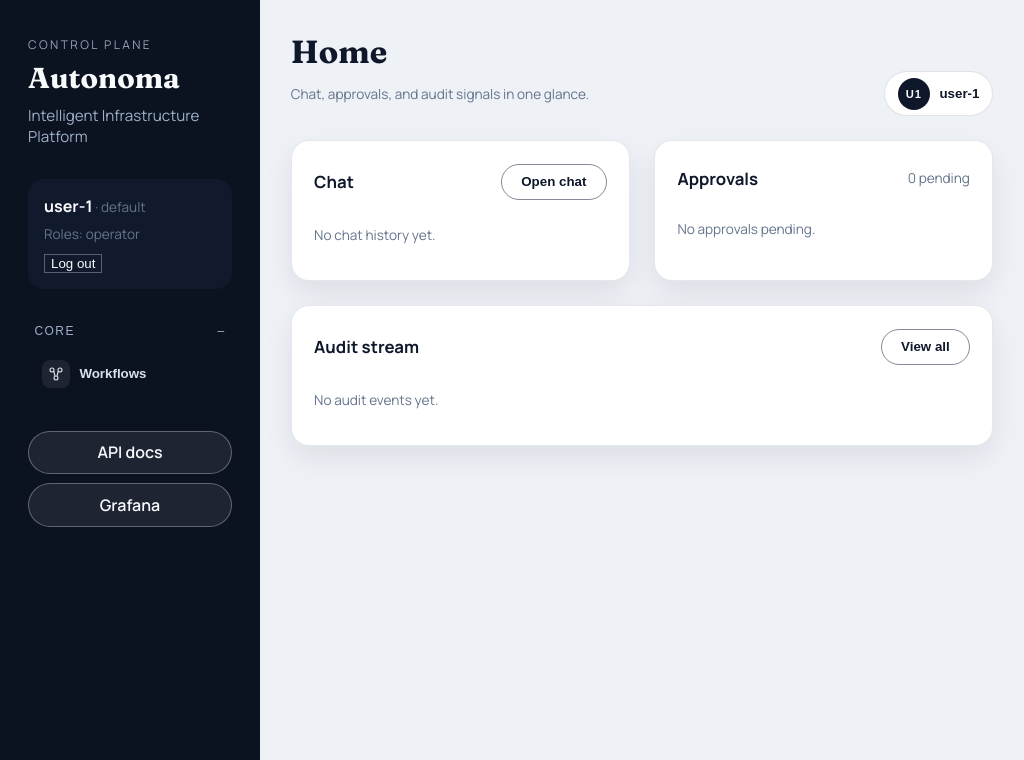
Test case: App auth flow › renders v1 runtime timeline cards in run details modal
The width and height of the screenshot is (1024, 760).
Click the button "Workflows" at (130, 374), box [28,349,232,399]
(page scrolled)
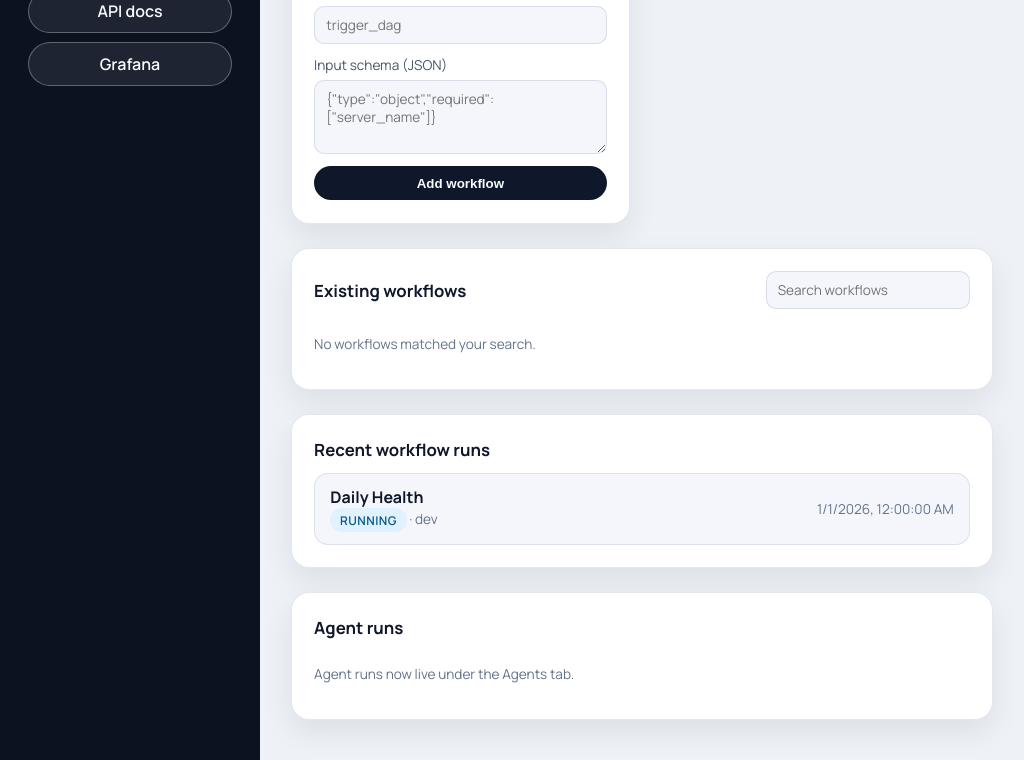
Click the button with aria-label "View details for Daily Health" at (377, 497), box [314,473,970,545]
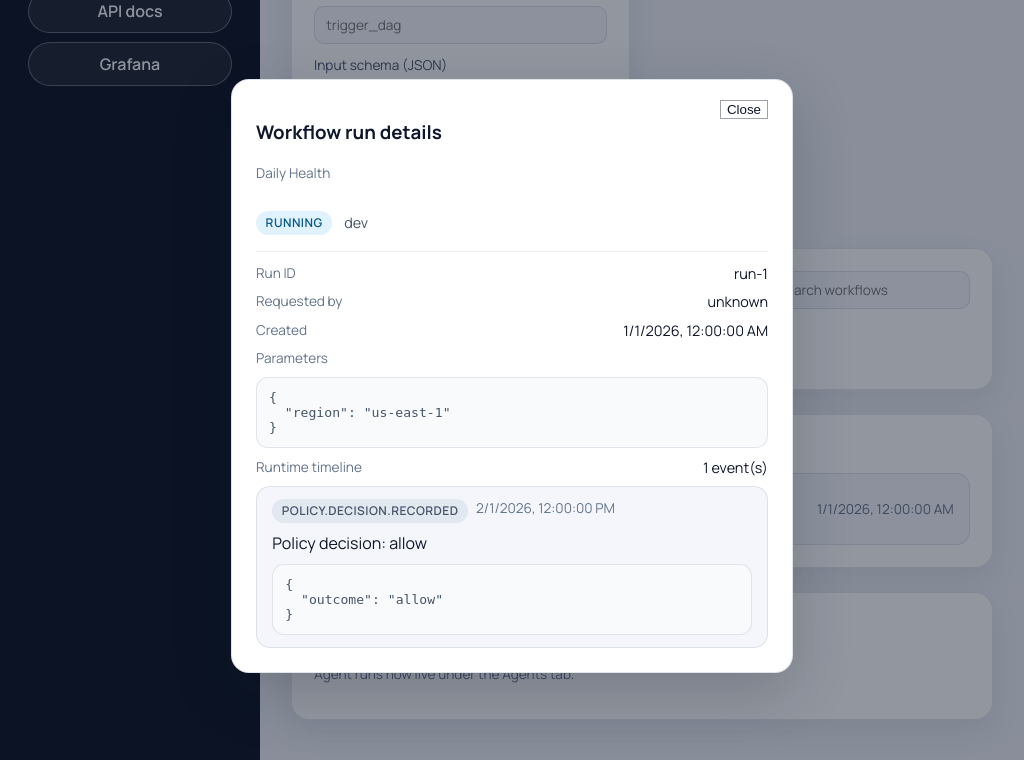
Expected: the text "Runtime timeline" is shown, [256,458,362,477]
Expected: the text "policy.decision.recorded" is shown, [272,499,468,523]
Expected: the text "Policy decision: allow" is shown, [272,532,427,554]
